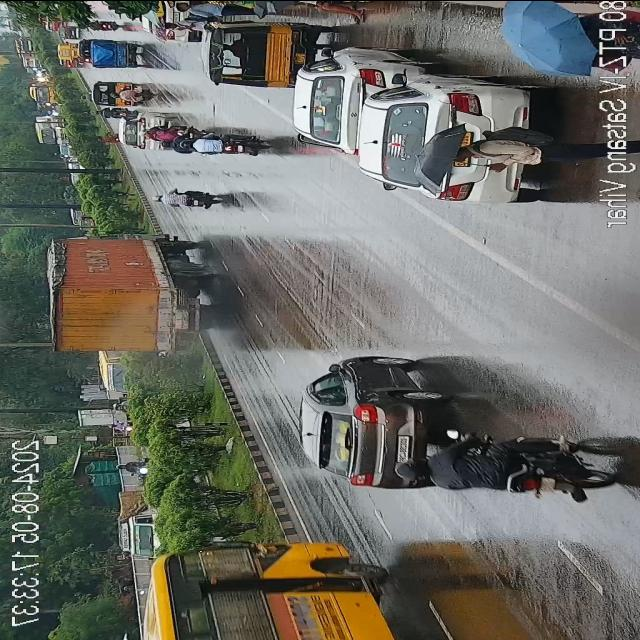2-wheelers: (418, 426, 610, 504), (176, 128, 268, 160), (157, 185, 221, 217), (142, 120, 196, 148), (106, 84, 156, 106), (79, 17, 125, 34), (116, 456, 154, 476)
auto: (208, 18, 312, 88), (92, 349, 138, 395), (84, 38, 144, 72), (94, 78, 142, 109), (56, 42, 82, 71)
bus: (117, 543, 406, 640), (32, 118, 73, 144), (28, 81, 62, 103)
car: (366, 78, 522, 206), (302, 362, 432, 494), (296, 49, 403, 151), (120, 108, 178, 152)
pedestrian: (439, 130, 591, 176), (175, 0, 252, 23), (279, 0, 362, 20)
truck: (48, 232, 214, 360)
